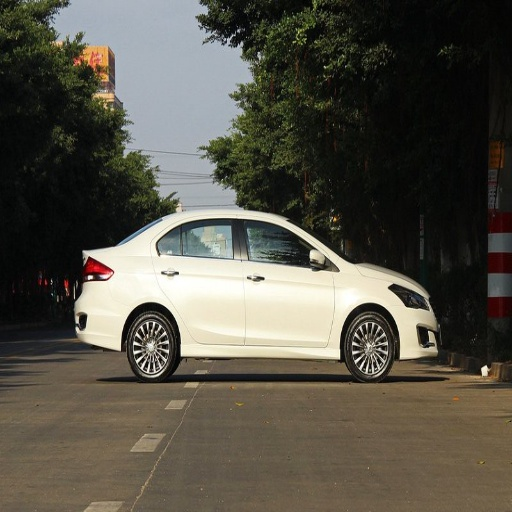back_right_door: (153, 219, 243, 345)
front_right_door: (242, 218, 334, 346)
